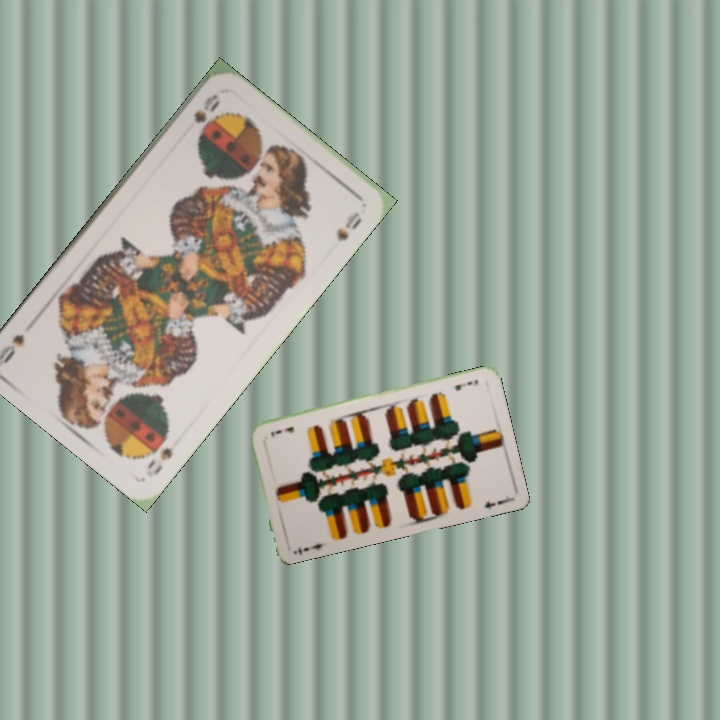E7: (294, 539, 330, 557), (451, 376, 481, 393)
SO: (142, 432, 175, 478), (189, 89, 223, 126)
